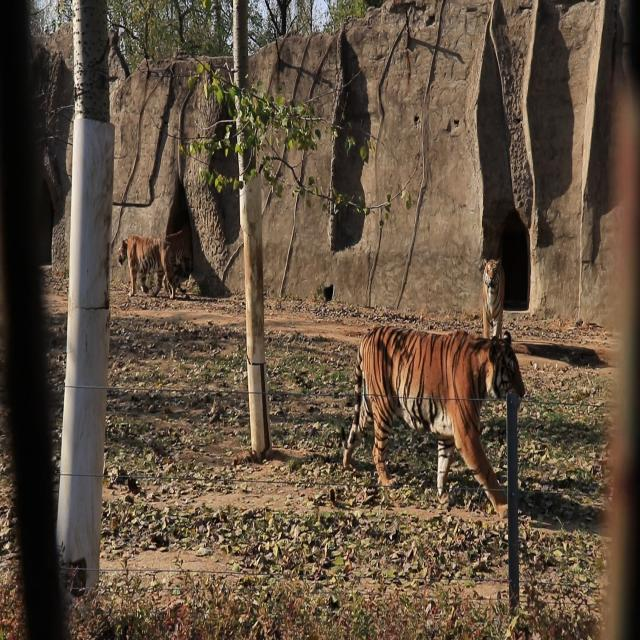Tiger: (335, 306, 552, 521), (113, 225, 178, 309), (475, 253, 510, 342)
